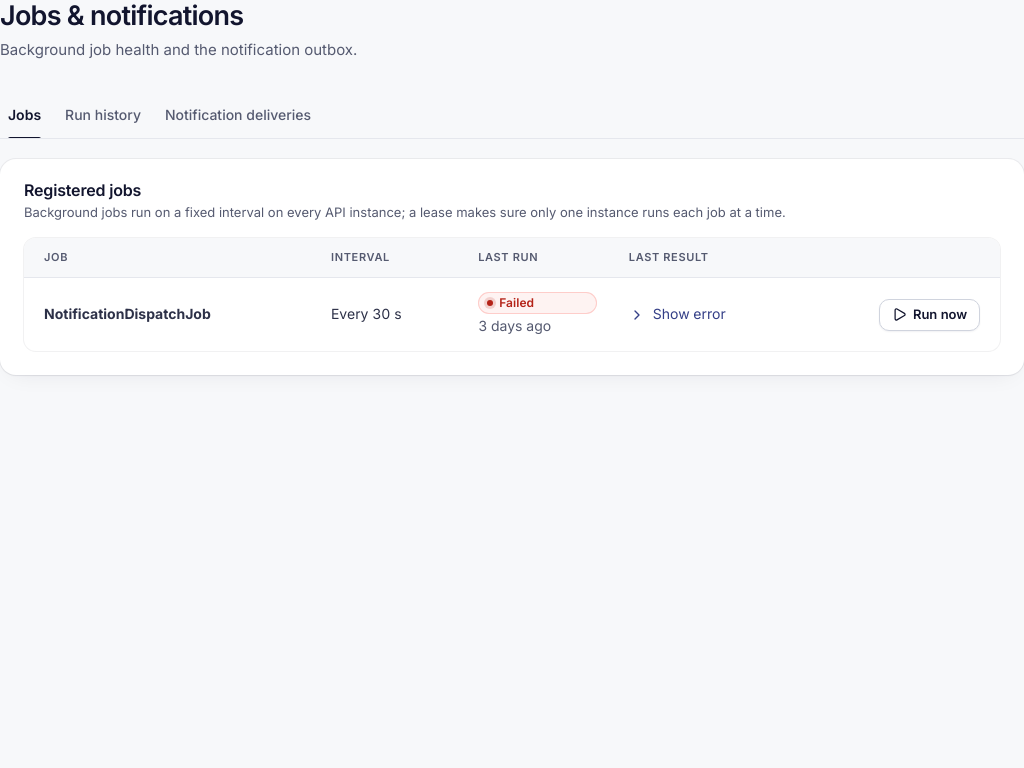
Test case: Jobs › shows a clear message when "Run now" hits a held lease (409)
Click the button "Show error".
click(677, 315)  # box [625, 300, 730, 329]
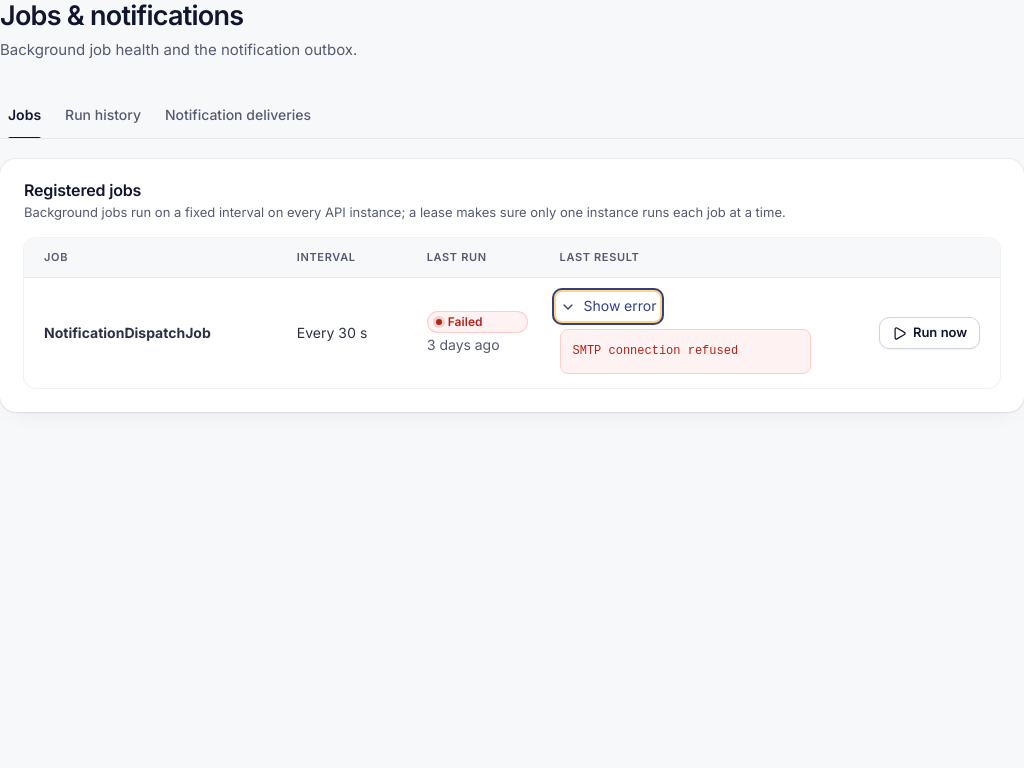
Result: the text "SMTP connection refused" is shown at [560, 329, 811, 374]
Click the button with aria-label "Run NotificationDispatchJob now".
click(930, 333)  # box [879, 317, 980, 349]
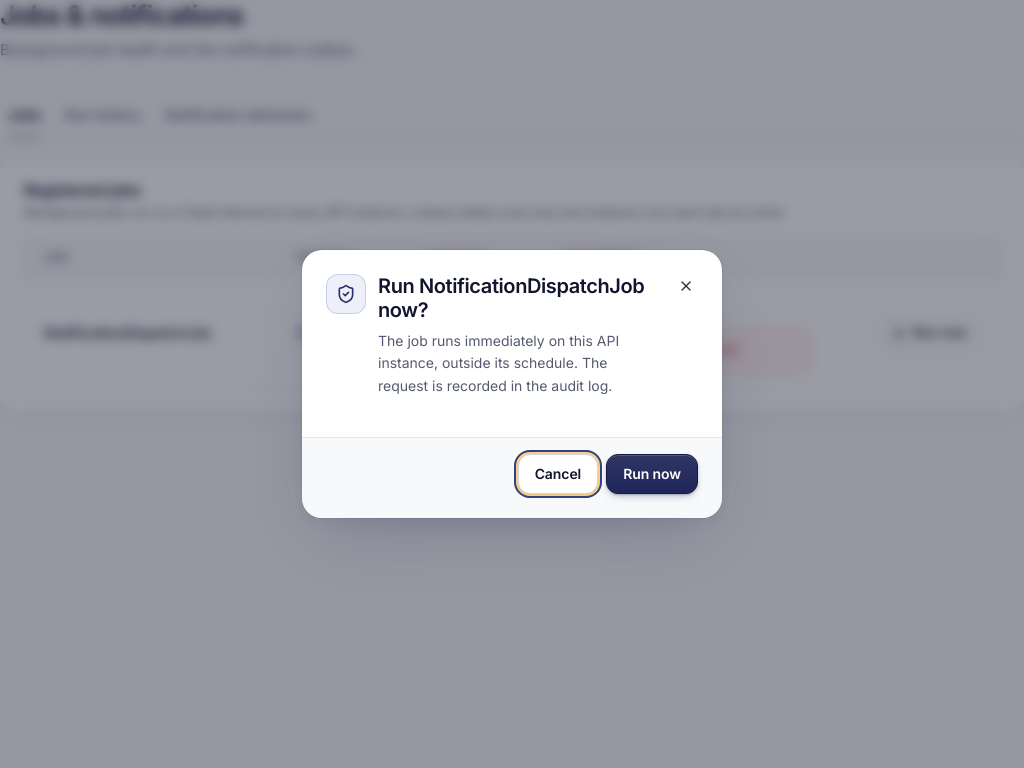
Click the button "Run now".
click(652, 474)  # box [606, 454, 698, 494]
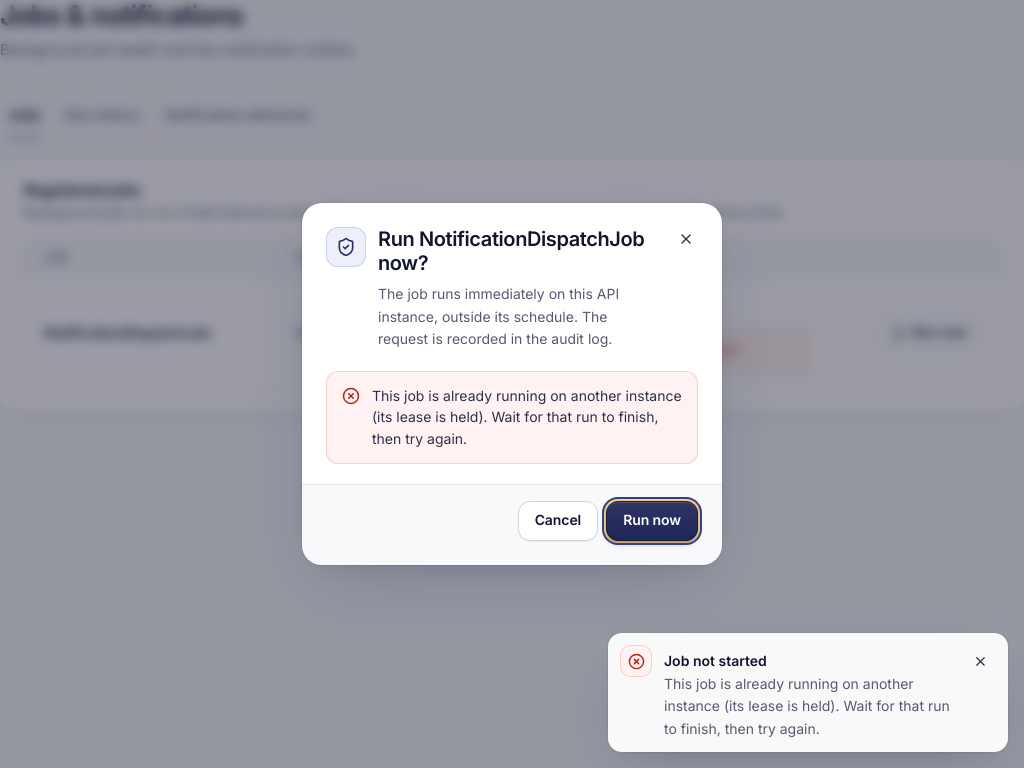
Result: the message shows "already running on another instance" at [372, 386, 682, 447]
Result: the text "Job not started" is shown at [664, 652, 767, 669]
